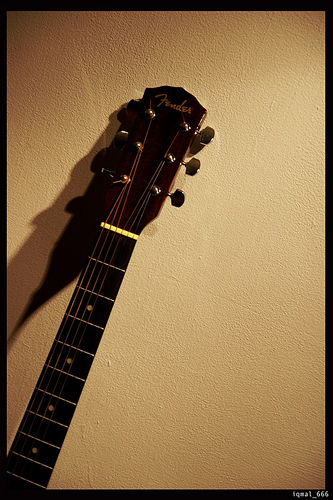guitar: (1, 85, 215, 491)
